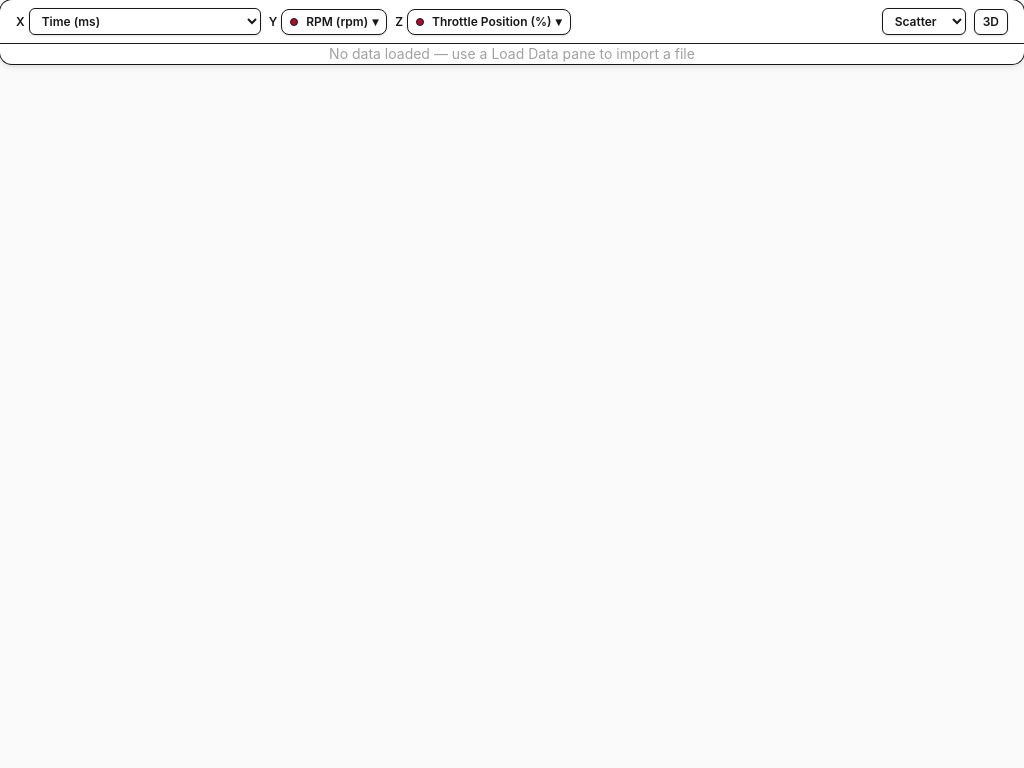
Test case: GraphWidget › closes the Z dropdown when clicking outside it in 3D mode
Step 1. Click the button "Throttle Position (%) ▾" → point(489, 22), box [407,8,570,34]
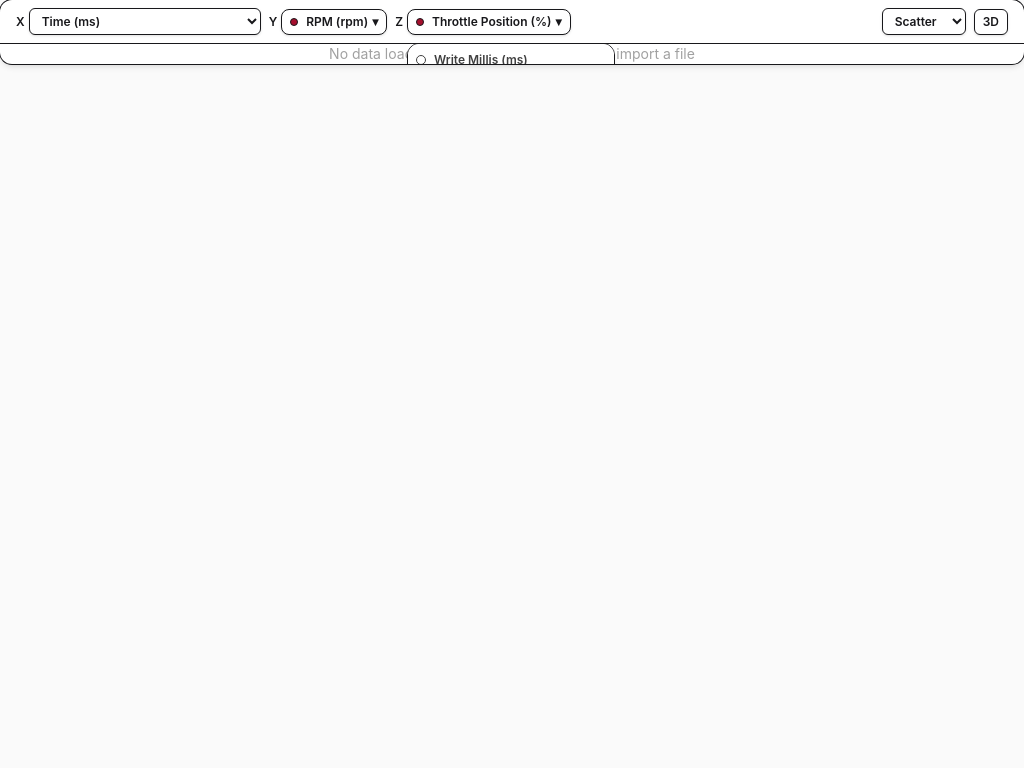
Step 2. Click the element that starts with "RPM (rpm)" → point(512, 384), box [0,0,1023,767]
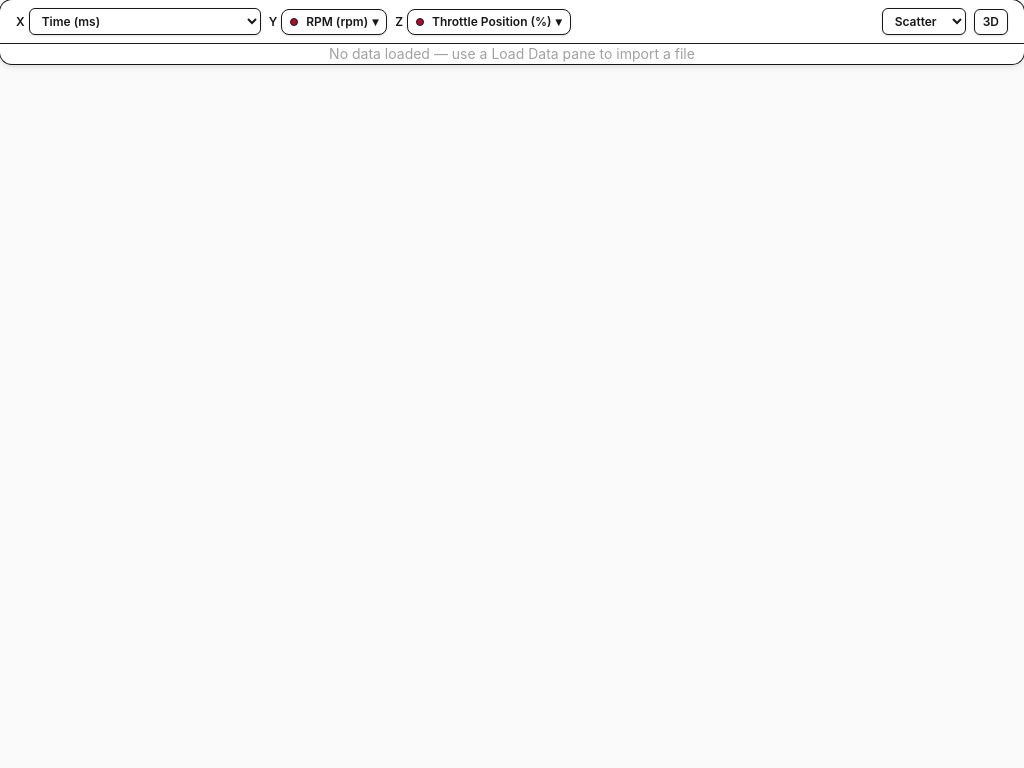
Expected: the element with class "max-h-64" is gone
